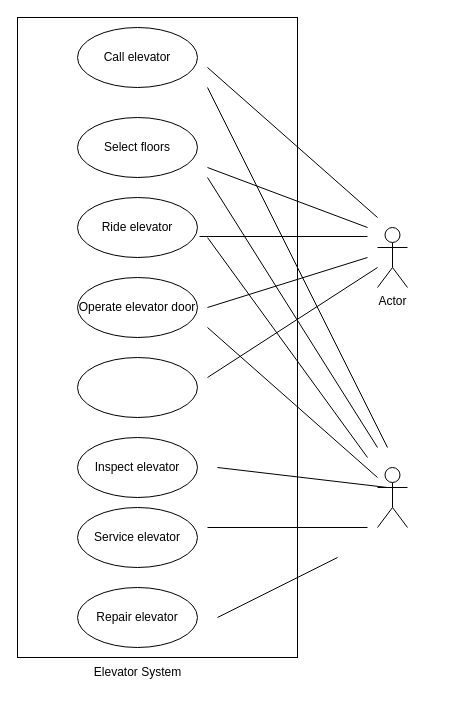
Image size: 460x705. Some labels were removed from this diagram. Each missing label, with the box of its shape:
Maintenance Team: (376, 466, 408, 528)
Press Alarm: (76, 356, 198, 418)
